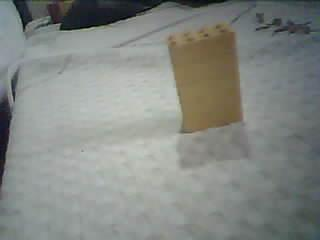lego: (163, 23, 248, 132)
